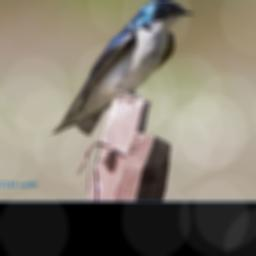Swallow: (49, 0, 195, 138)
